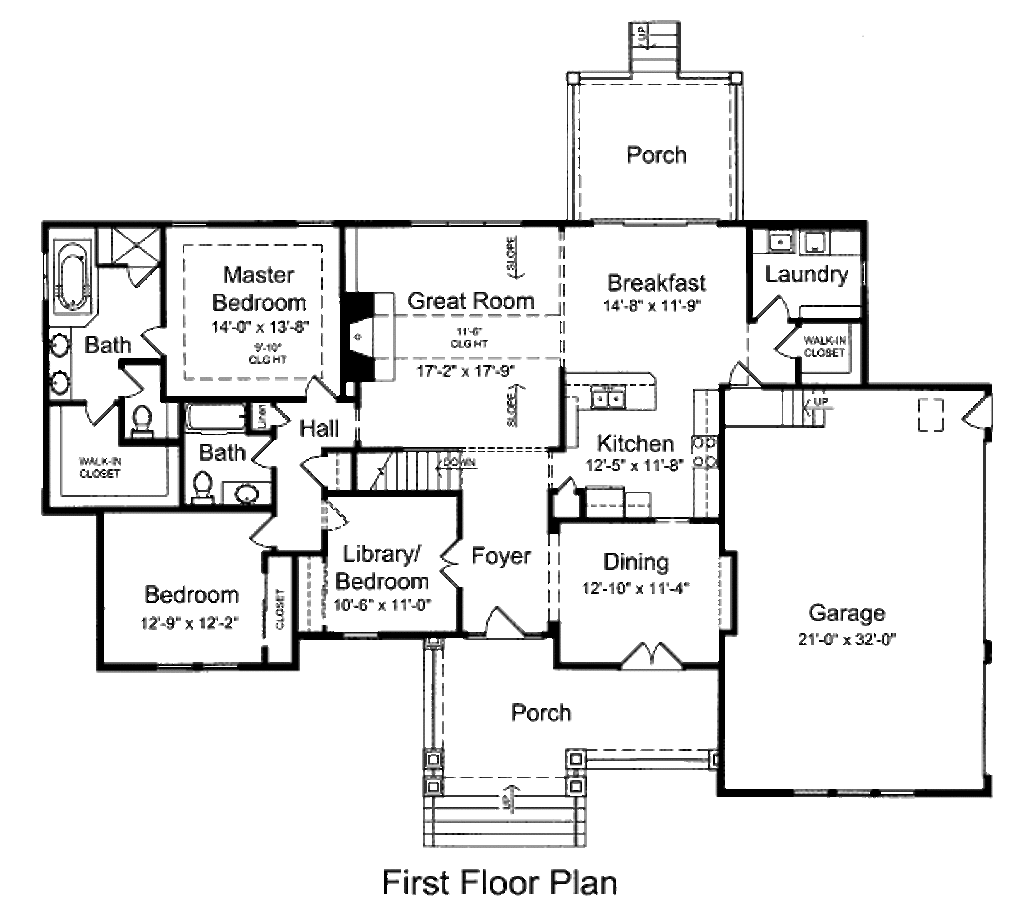door: (959, 385, 1003, 442), (748, 274, 799, 321), (133, 319, 179, 366), (772, 317, 815, 365), (621, 642, 683, 673), (438, 533, 471, 591), (480, 598, 523, 641), (243, 426, 281, 474), (297, 435, 332, 487), (727, 356, 769, 393), (246, 506, 282, 548), (111, 363, 147, 400), (299, 374, 340, 404), (123, 265, 170, 290), (78, 397, 117, 427), (323, 500, 347, 542), (556, 478, 579, 506)
large_sink: (185, 460, 221, 509), (125, 403, 160, 445)
small_sink: (46, 327, 76, 403), (221, 482, 274, 506)
stairs: (422, 747, 586, 847), (328, 450, 473, 493), (730, 390, 835, 438), (626, 16, 680, 86)
tub: (41, 224, 96, 342)
twin_sink: (584, 379, 650, 417)
window: (404, 218, 534, 229)
